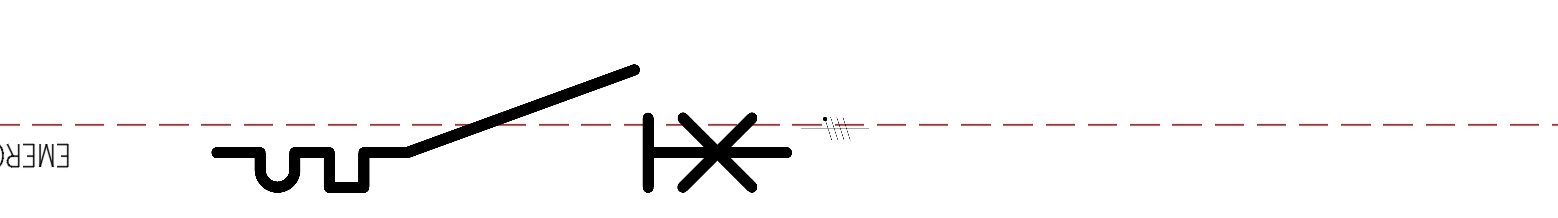interruptor_termomagnetico: (202, 55, 801, 202)
